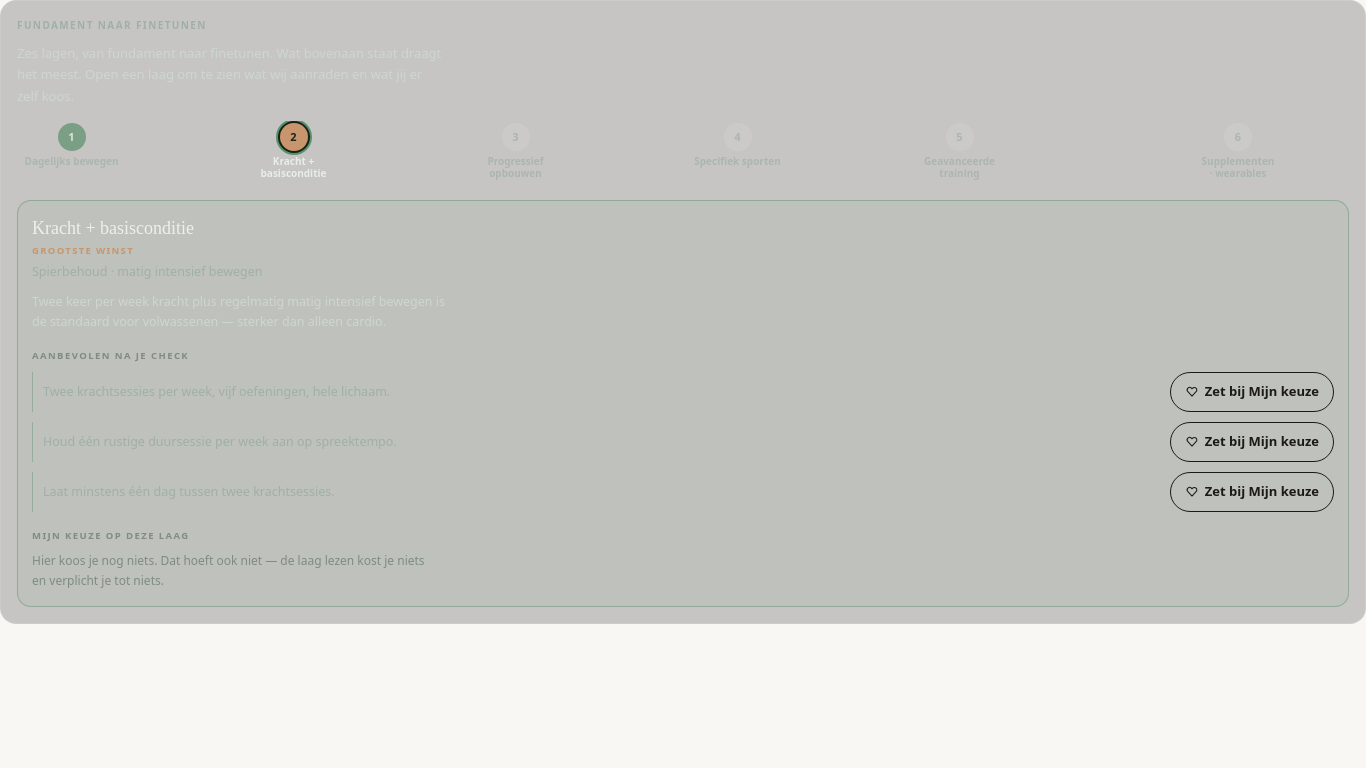
Test: PrioriteitenLadder op echte domeindata › draagt op beweging de staat per laag én markeert alleen de aangewezen laag als aanbevolen
The image size is (1366, 768).
Check: the text "Grootste winst" is shown, box top-left (32, 244), bottom-right (134, 257)
Check: the text "Aanbevolen na je check" is shown, box top-left (32, 349), bottom-right (189, 362)
Een laag die de check niet aanwijst claimt geen aanbeveling.
Click the tab "1 Dagelijks bewegen" at {"x": 72, "y": 144}, box top-left (17, 121), bottom-right (126, 167)
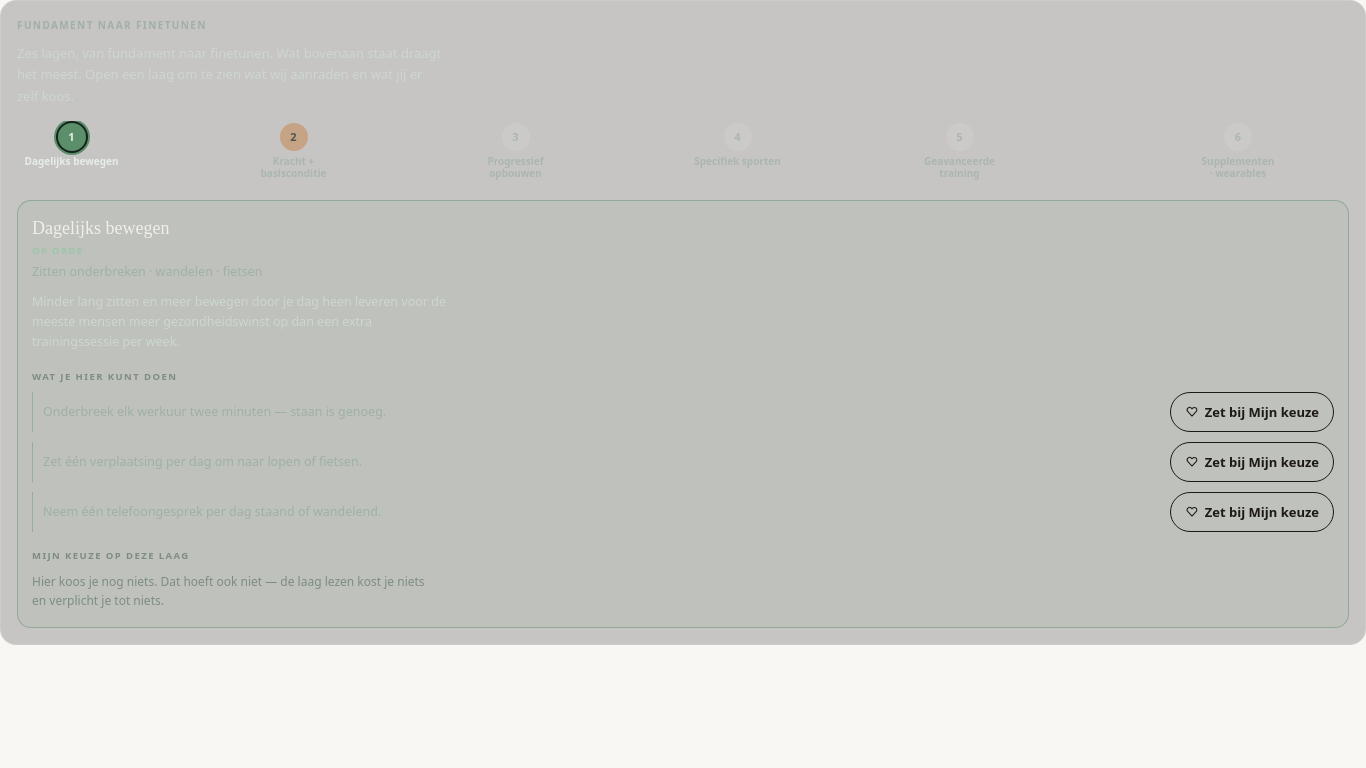
Check: the text "Wat je hier kunt doen" is shown, box top-left (32, 370), bottom-right (177, 383)
Check: the text "Aanbevolen na je check" is gone
